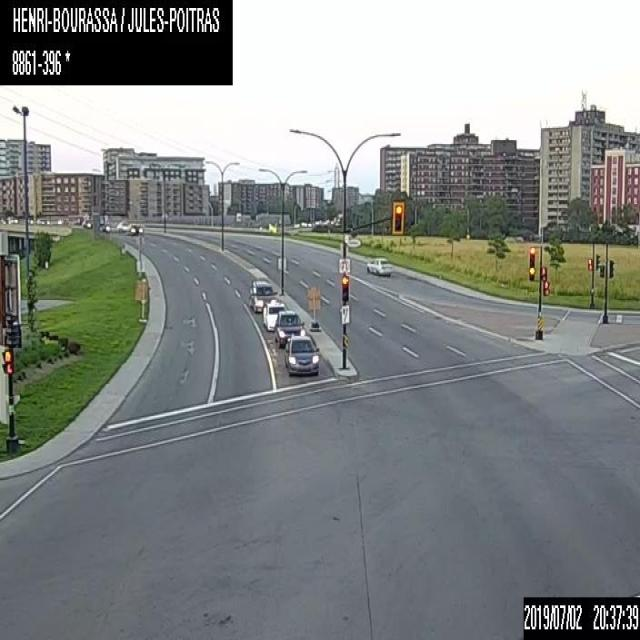vehicle: (284, 335, 320, 373), (274, 309, 305, 347), (248, 278, 277, 310), (262, 298, 286, 329), (367, 255, 392, 276), (128, 221, 144, 235)
